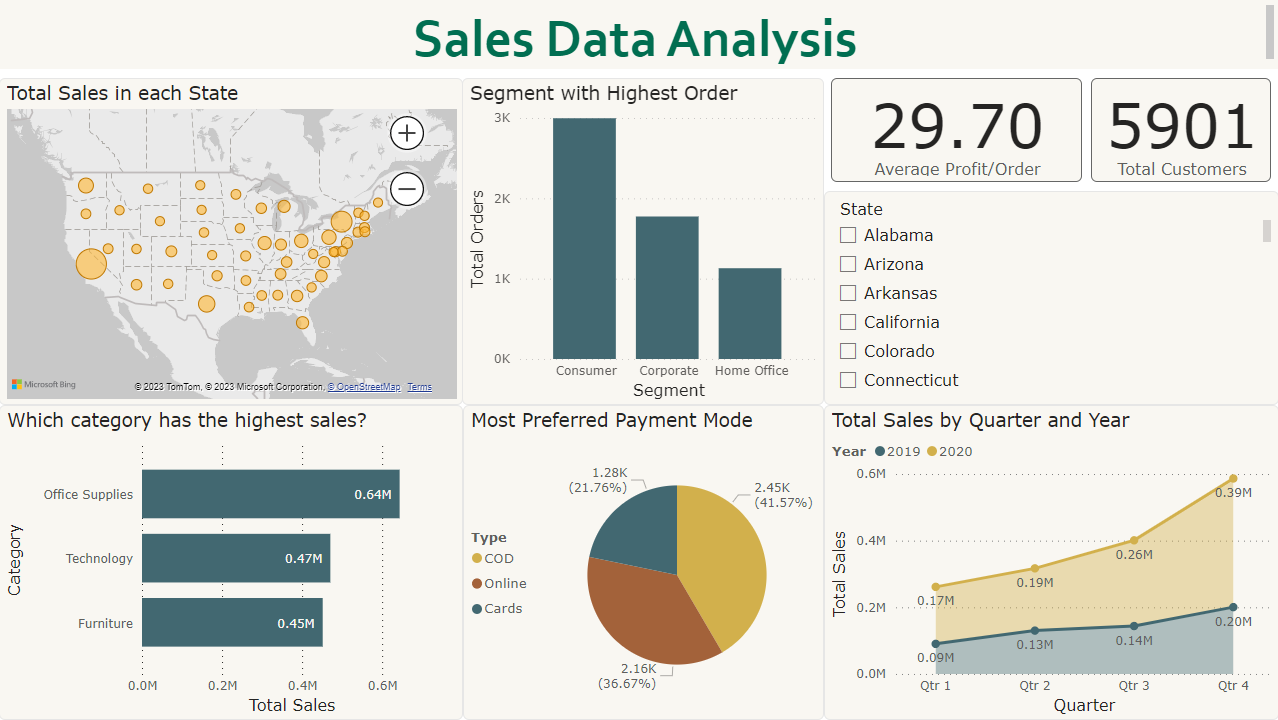

What the dashboard file says about the page in this screenshot:
{"tool":"powerbi","page":{"name":"Page 1","canvas":[1280,720],"ordinal":0},"visuals":[{"type":"textbox","box":[0,0,1280,69.1],"z":0},{"type":"card","fields":{"Values":["CountNonNull(sales dataset.Customer ID)"]},"box":[1092,78,180,104],"z":1000},{"type":"card","fields":{"Values":["Avg(sales dataset.Profit)"]},"box":[832,78,251,104],"z":2000},{"type":"clusteredBarChart","title":"Which category has the highest sales?","fields":{"Y":["Sum(sales dataset.Sales)"],"Category":["sales dataset.Category"]},"box":[0,405,464,315],"z":3000},{"type":"stackedAreaChart","title":"Total Sales by Quarter and Year","fields":{"Category":["sales dataset.Order Date.Variation.Date Hierarchy.Quarter"],"Y":["Sum(sales dataset.Sales)"],"Series":["sales dataset.Order Date.Variation.Date Hierarchy.Year"]},"box":[825,405,455,315],"z":4000},{"type":"map","title":"Total Sales in each State","fields":{"Category":["sales dataset.State"],"Size":["Sum(sales dataset.Sales)"]},"box":[0,78,464,327],"z":4001},{"type":"pieChart","title":"Most Preferred Payment Mode","fields":{"Category":["sales dataset.Payment Mode"],"Y":["CountNonNull(sales dataset.Payment Mode)"]},"box":[464,405,361,315],"z":4002},{"type":"slicer","fields":{"Values":["sales dataset.State"]},"box":[825,191,455,214],"z":4003},{"type":"clusteredColumnChart","title":"Segment with Highest Order","fields":{"Y":["CountNonNull(sales dataset.Order ID)"],"Category":["sales dataset.Segment"]},"box":[463,78,362,327],"z":4004}]}

Visuals, with their boxes in screenshot pixels (x1, y1, x2, y2), scaled from the page's 1280x720 canvas onto the 1278x720 screenshot:
textbox: select_region(0, 0, 1277, 69)
card - CountNonNull(sales dataset.Customer ID): select_region(1090, 78, 1270, 182)
card - Avg(sales dataset.Profit): select_region(831, 78, 1081, 182)
"Which category has the highest sales?" clusteredBarChart: select_region(0, 405, 463, 719)
"Total Sales by Quarter and Year" stackedAreaChart: select_region(824, 405, 1277, 719)
"Total Sales in each State" map: select_region(0, 78, 463, 405)
"Most Preferred Payment Mode" pieChart: select_region(463, 405, 824, 719)
slicer - sales dataset.State: select_region(824, 191, 1277, 405)
"Segment with Highest Order" clusteredColumnChart: select_region(462, 78, 824, 405)
